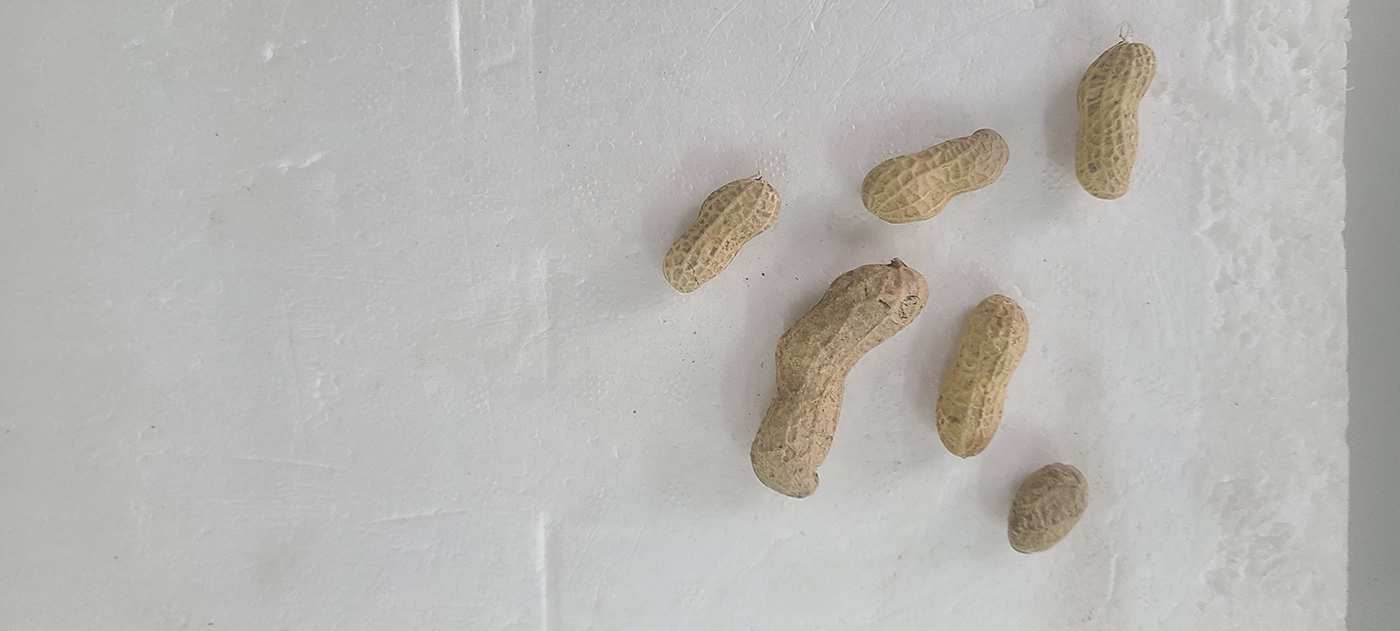h: (751, 259, 932, 498), (934, 293, 1029, 458), (861, 127, 1011, 224), (660, 176, 782, 293), (1074, 42, 1159, 197)
l: (1007, 462, 1089, 554)
